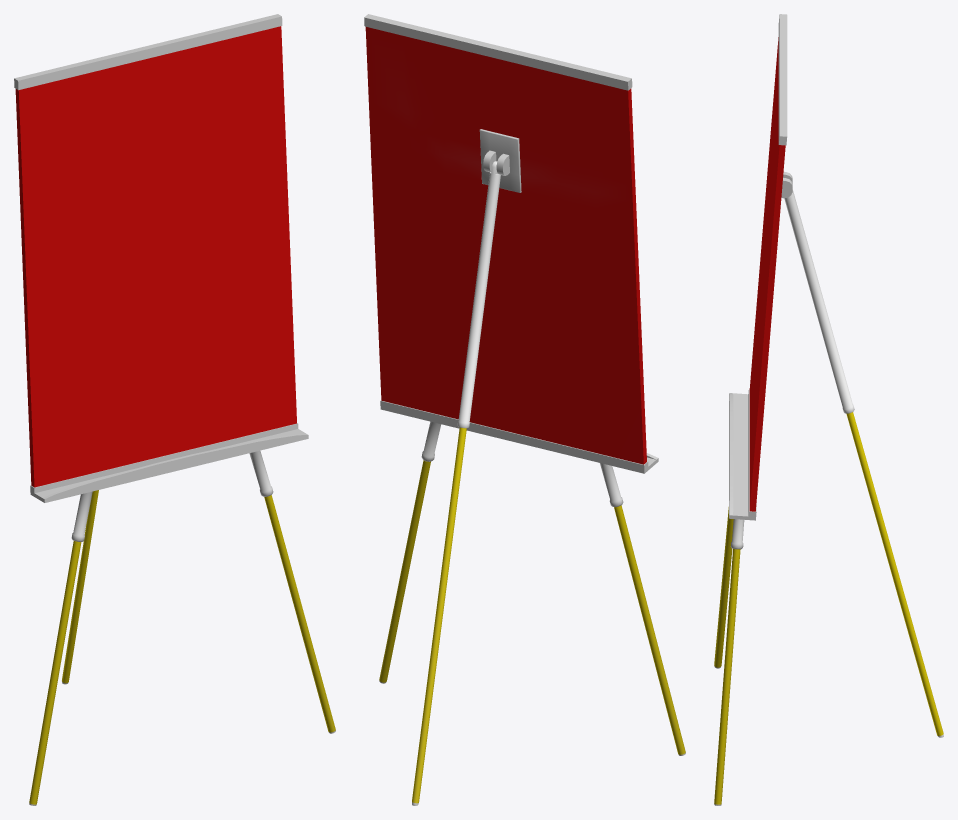
File: Paperboard.fbx
3 renders of one model, left to right at view 1: azimuth 30°, elevation 25°; view 2: azimuth 150°, elevation 25°; view 3: azimuth 270°, elevation 25°, orthographic. The views are drawn at different scales.
Visible parts, largest first — view 1: Corpse, Leg; view 2: Corpse, Leg; view 3: Corpse, Leg.
Boxes of the visible parts, <box> form: Corpse: <box>14,14,335,805</box>; Leg: <box>62,490,98,684</box>; Corpse: <box>364,14,685,755</box>; Leg: <box>412,161,500,805</box>; Corpse: <box>714,14,792,805</box>; Leg: <box>784,190,943,737</box>.
Bounding box in the file's own units: 86.78 × 189 × 59.51.
